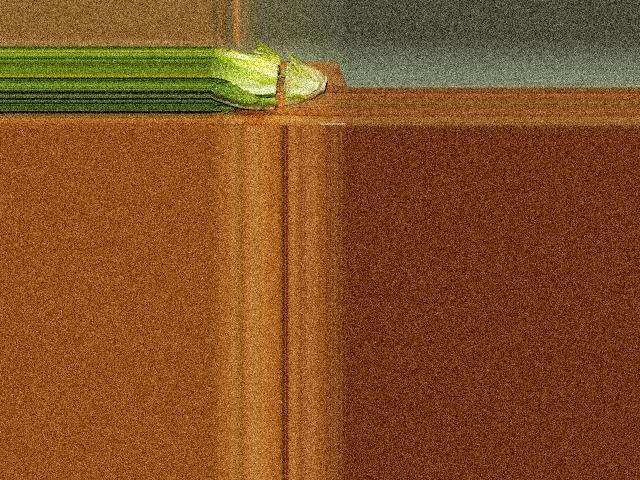lettuce: (212, 44, 325, 117)
